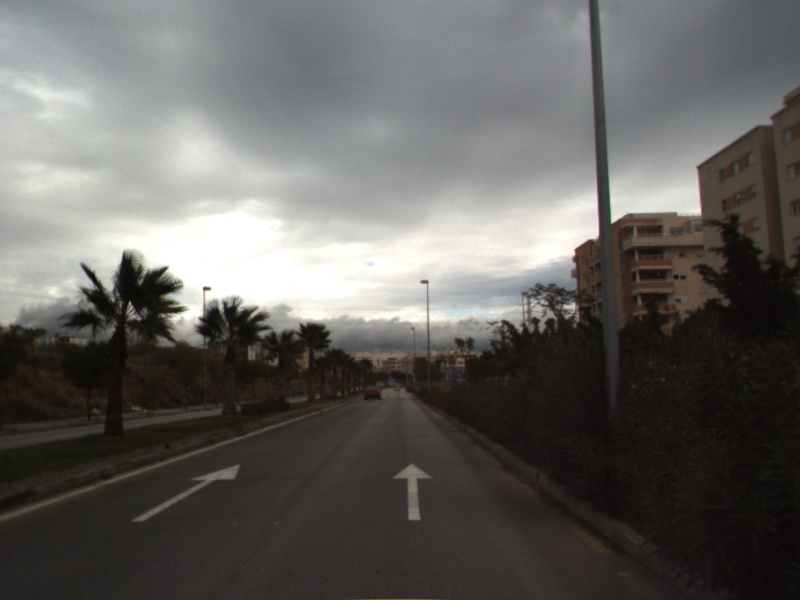STRAIGHT: (129, 462, 242, 524), (391, 461, 434, 522)
